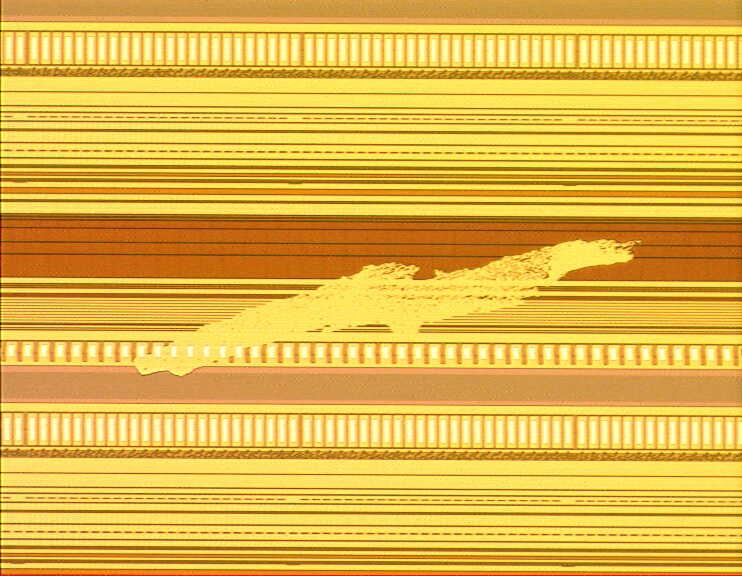BLOCK ETCH: (130, 235, 648, 382)
